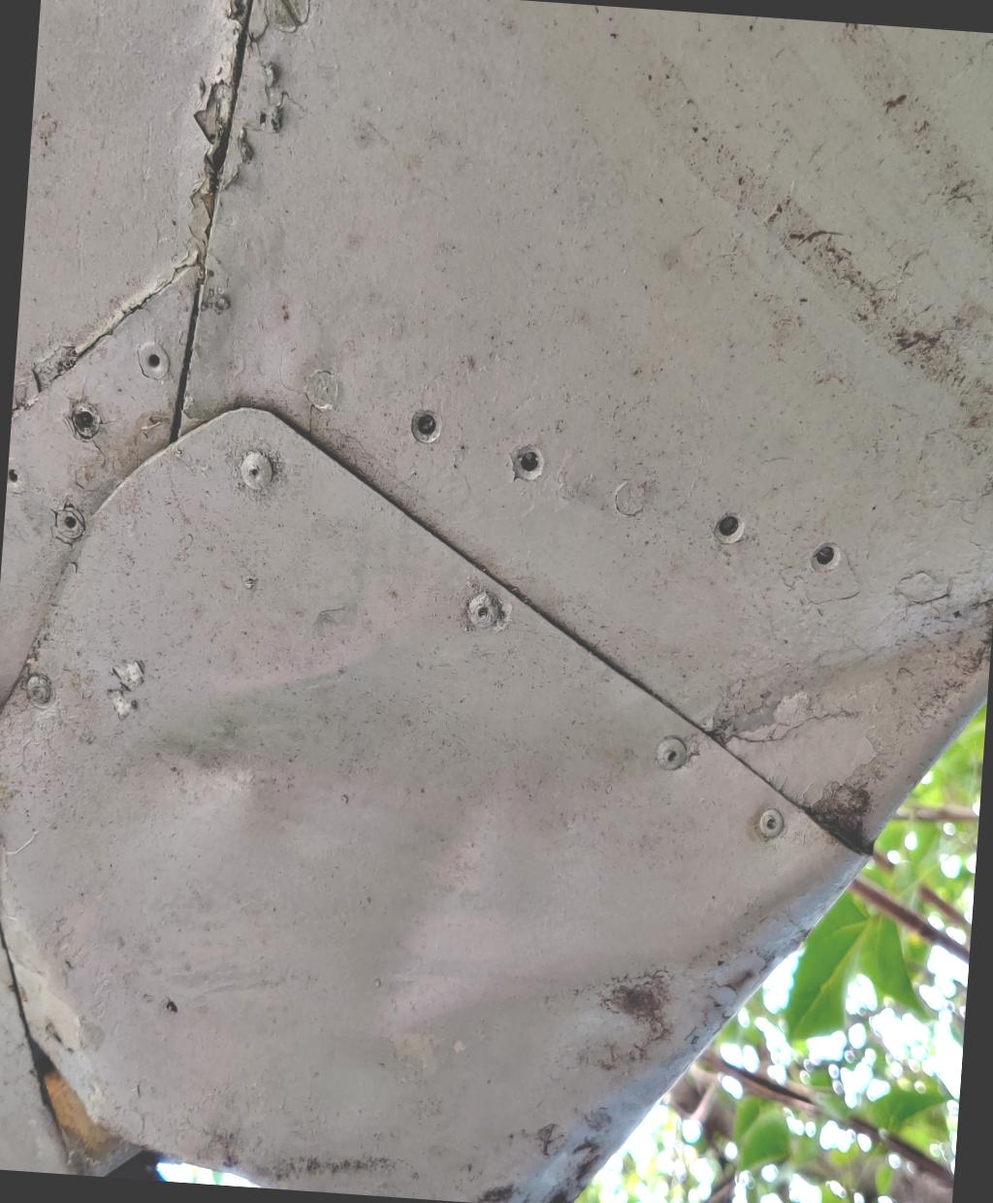dent: (65, 489, 993, 1144)
